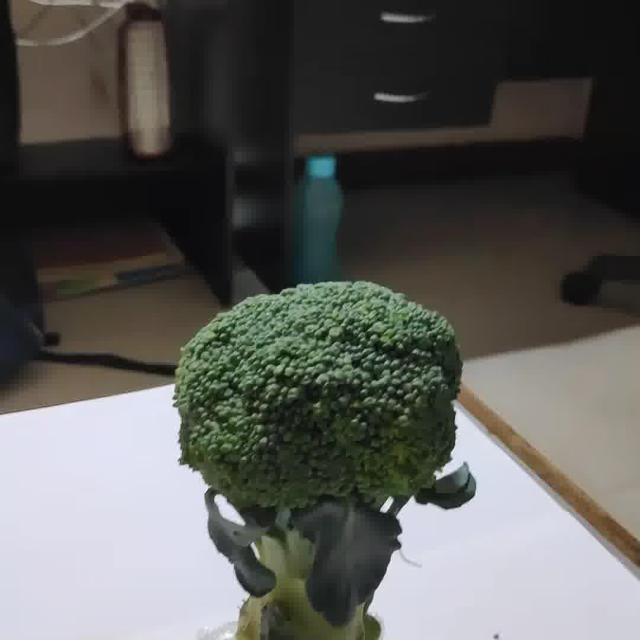Broccoli: (172, 282, 475, 639)
